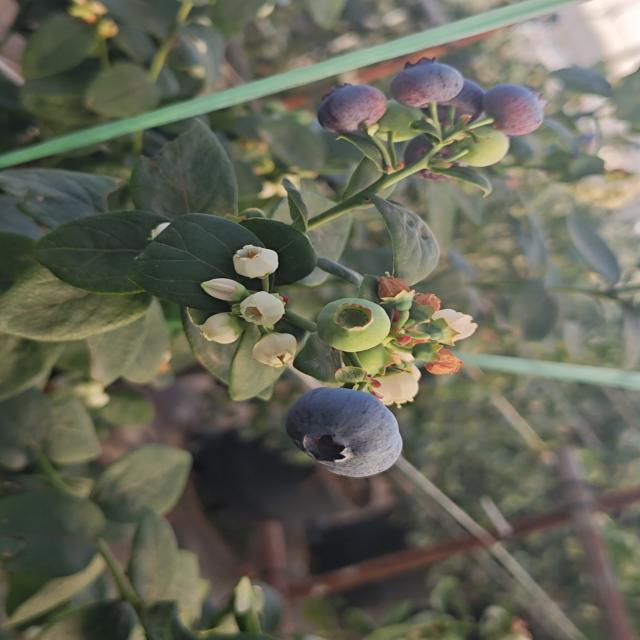ripe: (282, 384, 406, 480), (386, 54, 464, 108), (314, 82, 389, 137), (420, 72, 489, 128), (482, 76, 548, 134)
